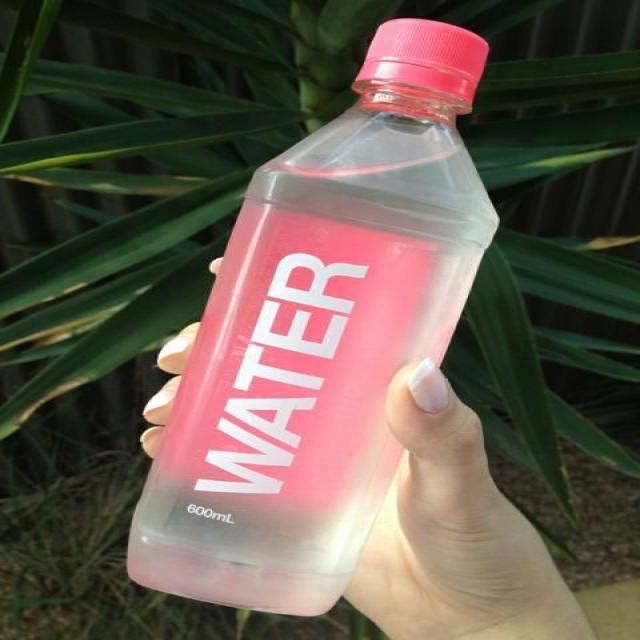bottle: (124, 16, 504, 617)
